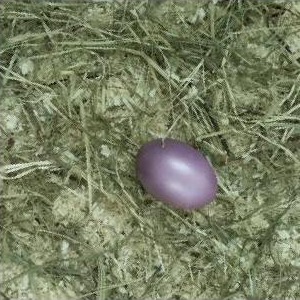egg: (139, 139, 217, 209)
